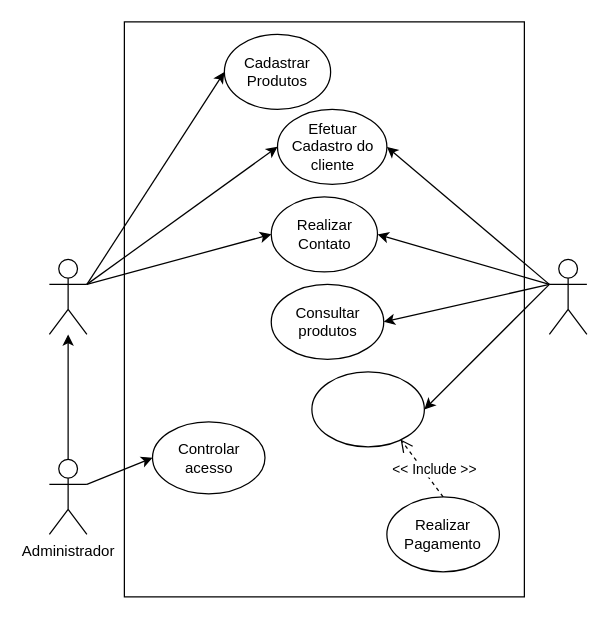
The diagram is 613 pixels wide and 619 high, and some of its shapes have lost their labels. Each missing label, with the centre of its shape:
"Atendente" belongs at (x=67, y=296).
"Cliente" belongs at (x=567, y=296).
"Realizar pedido" belongs at (x=367, y=409).
